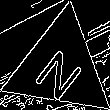N_NE: (30, 35, 90, 100)
